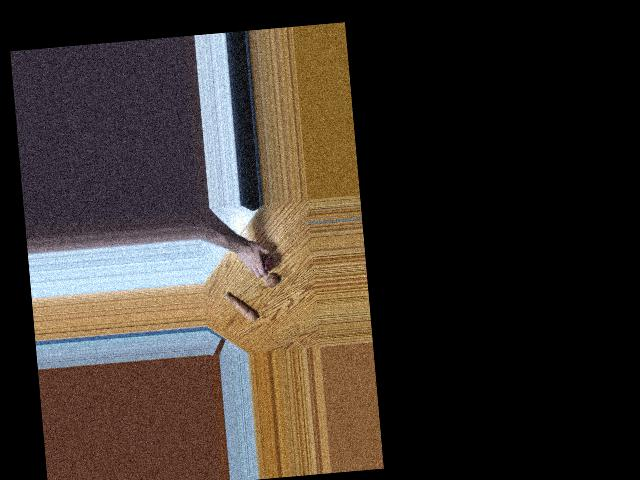onion: (256, 253, 273, 272)
